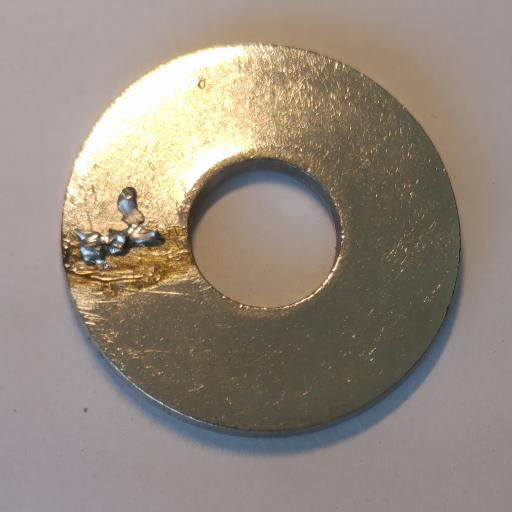excess_material: (62, 187, 213, 298)
